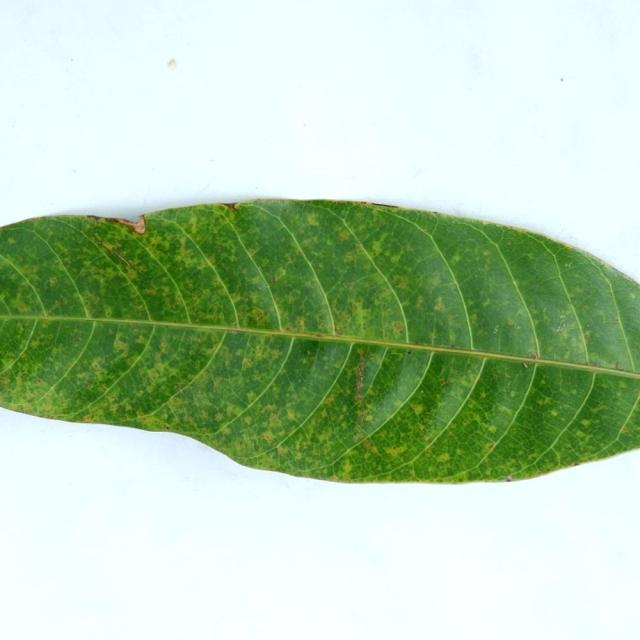Mango: (0, 200, 639, 482)
Powdery_Mildew: (362, 231, 390, 260), (346, 298, 369, 331), (333, 307, 356, 328), (243, 307, 268, 326), (407, 397, 428, 418), (113, 332, 132, 352), (385, 252, 402, 269), (385, 444, 407, 457), (433, 299, 447, 313), (285, 409, 299, 422), (337, 229, 351, 242), (361, 438, 374, 451), (276, 444, 290, 456), (80, 379, 95, 390), (246, 391, 259, 403), (392, 321, 404, 334), (498, 404, 513, 414), (397, 276, 409, 288), (437, 452, 450, 463), (304, 348, 315, 361), (468, 312, 478, 326), (260, 433, 273, 442), (324, 395, 335, 405), (540, 396, 552, 405), (580, 418, 591, 427), (429, 328, 436, 342), (575, 430, 587, 438), (481, 299, 490, 308), (487, 425, 497, 433), (506, 318, 516, 326), (549, 409, 558, 417), (479, 391, 487, 400), (320, 408, 328, 417), (394, 400, 403, 408), (486, 442, 494, 450), (318, 320, 325, 329), (84, 415, 94, 421), (421, 434, 429, 441), (471, 374, 479, 381), (622, 427, 631, 433), (37, 378, 46, 384), (510, 391, 517, 398), (370, 388, 377, 395), (164, 423, 171, 430), (584, 333, 590, 341), (306, 350, 312, 357), (629, 292, 635, 299), (571, 389, 577, 395), (439, 379, 445, 385), (150, 243, 157, 248), (351, 244, 358, 249), (423, 226, 428, 232), (42, 311, 47, 317), (284, 327, 290, 331), (239, 440, 243, 445), (637, 294, 640, 299)
